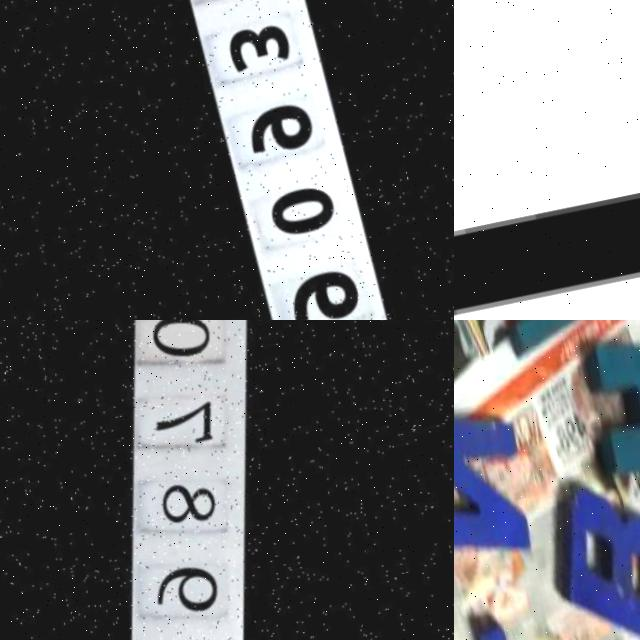0: (248, 168, 359, 260), (131, 320, 231, 380)
3: (211, 7, 311, 91)
7: (130, 379, 239, 467)
8: (137, 465, 239, 549)
9: (225, 84, 338, 178), (132, 546, 244, 638), (265, 247, 384, 320)
B: (546, 472, 640, 640)
J: (454, 99, 640, 320)
K: (582, 320, 640, 484)
N: (454, 401, 533, 566)
